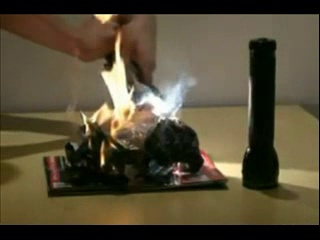fire: (78, 105, 136, 166), (100, 32, 134, 107)
smoke: (136, 75, 198, 124)
